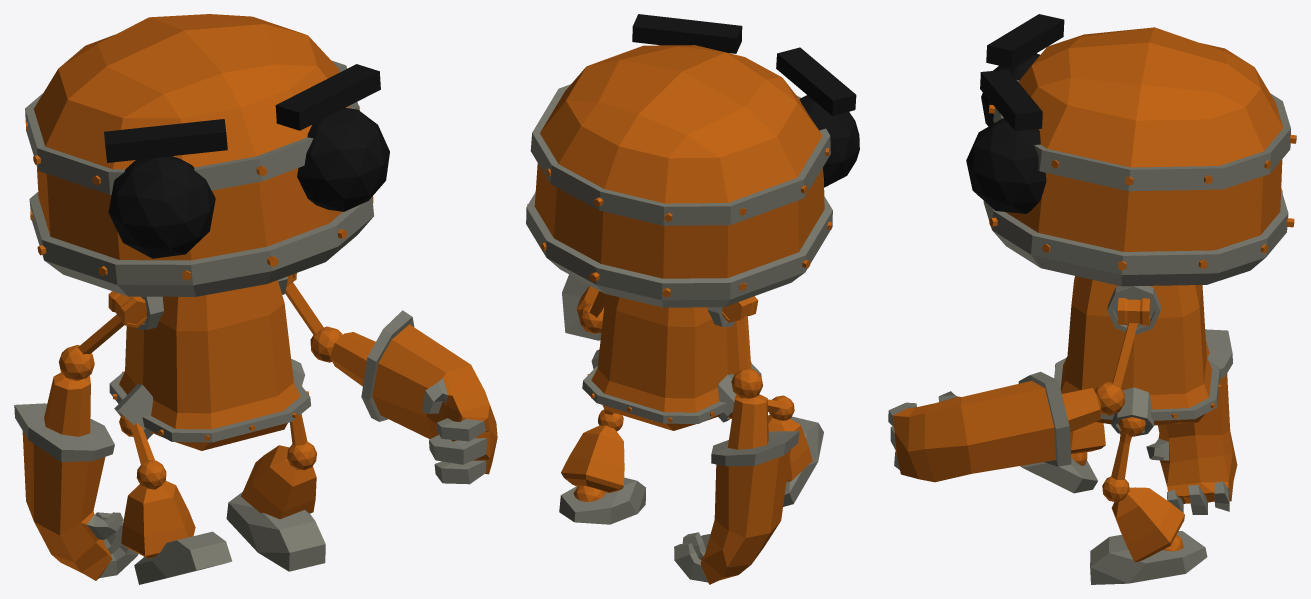
Rendered from Robot_000017.obj.
3 views of the same model, side by side, from view 1: azimuth 30°, elevation 25°; view 2: azimuth 150°, elevation 25°; view 3: azimuth 270°, elevation 25° (orthographic). The views are drawn at different scales.
Visible parts, largest first — view 1: Head_Cylinder, Torso_Cube.001, Hand.L_Cylinder.022, Hand.R_Cylinder.015, Foot.L_Cylinder.014, LowerLeg.R_Cylinder.018, LowerLeg.L_Cylinder.012, Foot.R_Cylinder.017, Arm.R_Cylinder.013, Arm.L_Cylinder.010, Leg.R_Cylinder.019, Leg.L_Cylinder.011 (+1 smaller); view 2: Head_Cylinder, Torso_Cube.001, Hand.R_Cylinder.015, LowerLeg.L_Cylinder.012, Foot.L_Cylinder.014, Hand.L_Cylinder.022, Arm.R_Cylinder.013, Foot.R_Cylinder.017, LowerLeg.R_Cylinder.018, Arm.L_Cylinder.010, Shoulder.R_Cylinder.009, Leg.R_Cylinder.019; view 3: Head_Cylinder, Torso_Cube.001, Hand.L_Cylinder.022, Hand.R_Cylinder.015, Foot.L_Cylinder.014, LowerLeg.L_Cylinder.012, Foot.R_Cylinder.017, Arm.L_Cylinder.010, Leg.L_Cylinder.011, LowerLeg.R_Cylinder.018, Shoulder.L_Cylinder.008.
Part boxes in pixels (<box>): Head_Cylinder: <box>25,14,389,296</box>; Torso_Cube.001: <box>109,276,311,450</box>; Hand.L_Cylinder.022: <box>330,310,497,484</box>; Hand.R_Cylinder.015: <box>14,372,138,580</box>; Foot.L_Cylinder.014: <box>226,492,325,571</box>; LowerLeg.R_Cylinder.018: <box>121,480,195,558</box>; LowerLeg.L_Cylinder.012: <box>241,445,316,519</box>; Foot.R_Cylinder.017: <box>134,531,232,584</box>; Arm.R_Cylinder.013: <box>59,314,123,380</box>; Arm.L_Cylinder.010: <box>285,282,342,362</box>; Leg.R_Cylinder.019: <box>126,419,166,489</box>; Leg.L_Cylinder.011: <box>287,414,316,470</box>; Head_Cylinder: <box>526,14,859,307</box>; Torso_Cube.001: <box>582,294,761,430</box>; Hand.R_Cylinder.015: <box>674,394,799,584</box>; LowerLeg.L_Cylinder.012: <box>561,425,624,501</box>; Foot.L_Cylinder.014: <box>559,477,645,524</box>; Hand.L_Cylinder.022: <box>562,274,601,340</box>; Arm.R_Cylinder.013: <box>731,316,762,398</box>; Foot.R_Cylinder.017: <box>783,416,823,506</box>; LowerLeg.R_Cylinder.018: <box>768,415,812,482</box>; Arm.L_Cylinder.010: <box>579,291,606,333</box>; Shoulder.R_Cylinder.009: <box>721,296,758,322</box>; Leg.R_Cylinder.019: <box>767,395,794,420</box>; Head_Cylinder: <box>966,14,1296,286</box>; Torso_Cube.001: <box>1054,276,1220,436</box>; Hand.L_Cylinder.022: <box>888,371,1101,482</box>; Hand.R_Cylinder.015: <box>1146,329,1237,514</box>; Foot.L_Cylinder.014: <box>1090,531,1207,584</box>; LowerLeg.L_Cylinder.012: <box>1111,487,1184,561</box>; Foot.R_Cylinder.017: <box>1020,458,1097,493</box>; Arm.L_Cylinder.010: <box>1095,323,1137,415</box>; Leg.L_Cylinder.011: <box>1102,430,1131,502</box>; LowerLeg.R_Cylinder.018: <box>1070,422,1105,466</box>; Shoulder.L_Cylinder.008: <box>1117,298,1150,325</box>.
Size of the model in its own units: 2.92 by 4.39 by 3.27.
